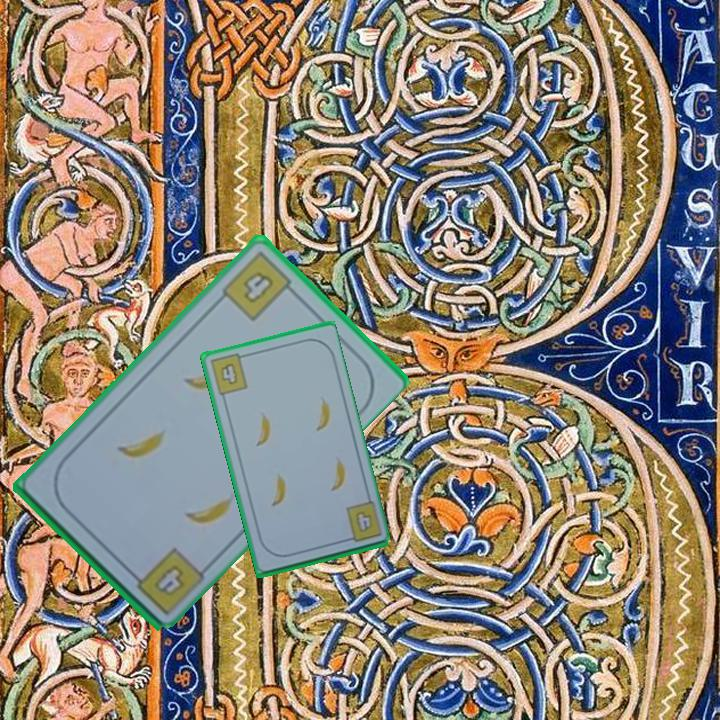4b: (218, 247, 300, 324), (206, 350, 250, 398), (154, 563, 184, 595), (354, 510, 373, 533)
